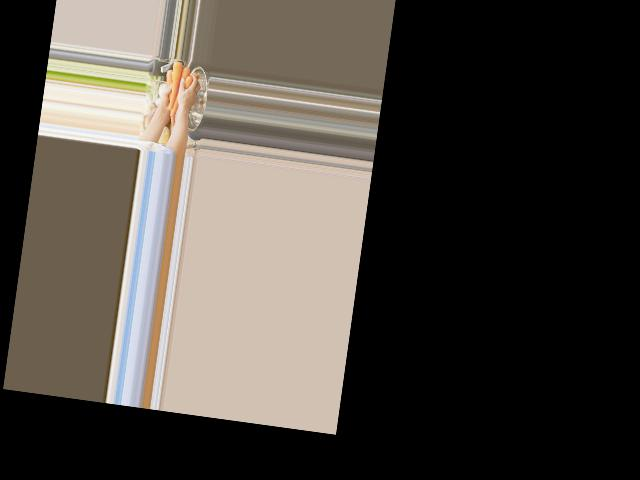carrot: (167, 64, 189, 120)
